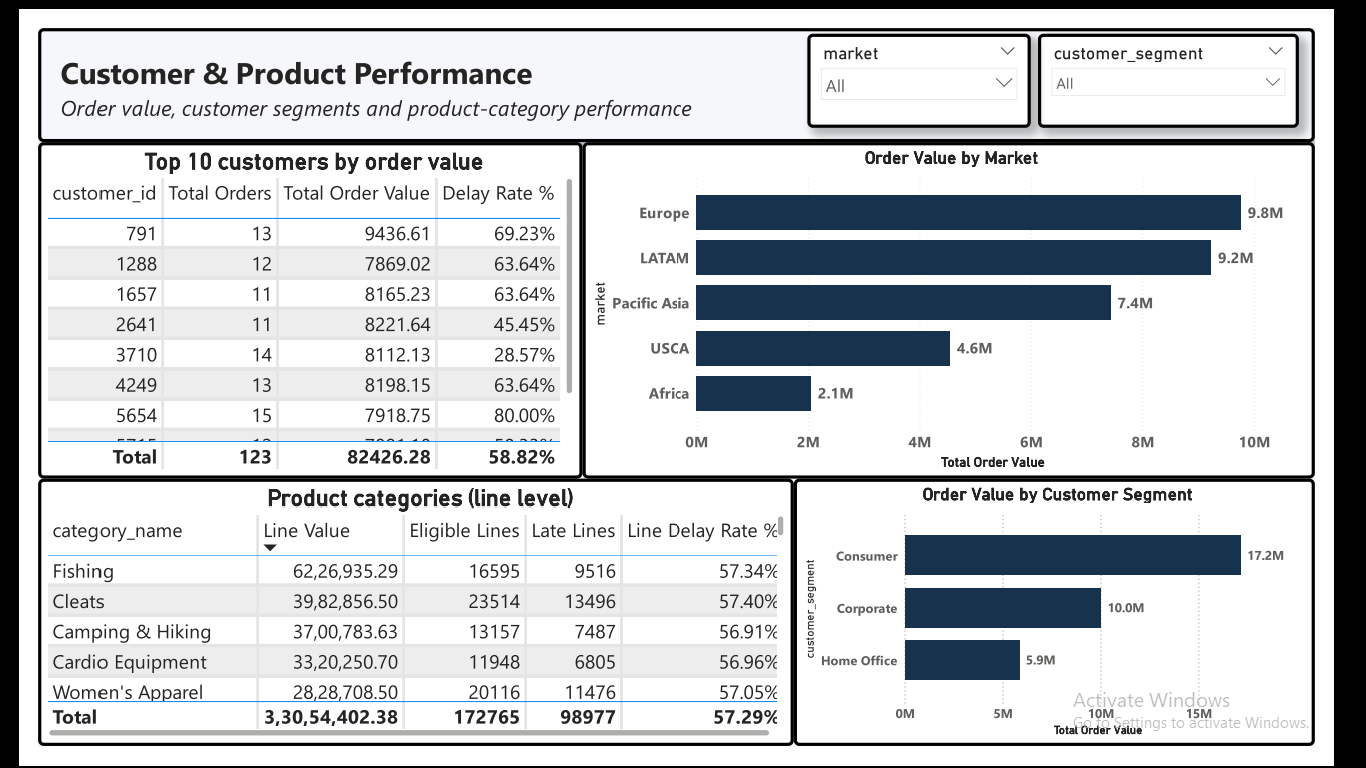

The dashboard page shown, as its layout file describes it:
{"tool":"powerbi","page":{"name":"Customer & Product Performance","canvas":[1600,900],"ordinal":4},"visuals":[{"type":"shape","box":[0,0,1600,143],"z":0},{"type":"tableEx","title":"Top 10 customers by order","fields":{"Values":["fact_order_lines.category_name","fact_order_lines.Line Value","fact_order_lines.Eligible Lines","fact_order_lines.Late Lines","fact_order_lines.Line Delay Rate %"]},"box":[0,564.9,947.5,334.3],"z":1000},{"type":"clusteredBarChart","title":"Order Value by Customer Segment","fields":{"Category":["fact_orders.customer_segment"],"Y":["fact_orders.Total Order Value"]},"box":[947.5,564.9,652.5,334.3],"z":2000},{"type":"tableEx","title":"Product categories (line level)","fields":{"Values":["fact_orders.customer_id","fact_orders.Total Orders","fact_orders.Total Order Value","fact_orders.Delay Rate %"]},"box":[0,143,681.1,421.9],"z":3000},{"type":"clusteredBarChart","title":"Order Value by Market","fields":{"Category":["fact_orders.market"],"Y":["fact_orders.Total Order Value"]},"box":[681.1,143,918.9,421.9],"z":4000},{"type":"slicer","fields":{"Values":["fact_orders.customer_segment"]},"box":[1253.2,7.2,327.2,118],"z":5000},{"type":"slicer","fields":{"Values":["fact_orders.market"]},"box":[963.6,7.2,280.7,118],"z":6000},{"type":"textbox","box":[23.2,25,940.3,100.1],"z":7000}]}

Visuals, with their boxes in screenshot pixels (x1, y1, x2, y2), scaled from the page's 1600x900 canvas onto the 1366x768 screenshot:
shape: [left=0, top=0, right=1365, bottom=122]
"Top 10 customers by order" tableEx: [left=0, top=482, right=809, bottom=767]
"Order Value by Customer Segment" clusteredBarChart: [left=809, top=482, right=1365, bottom=767]
"Product categories (line level)" tableEx: [left=0, top=122, right=581, bottom=482]
"Order Value by Market" clusteredBarChart: [left=581, top=122, right=1365, bottom=482]
slicer - fact_orders.customer_segment: [left=1070, top=6, right=1349, bottom=107]
slicer - fact_orders.market: [left=823, top=6, right=1062, bottom=107]
textbox: [left=20, top=21, right=823, bottom=107]
